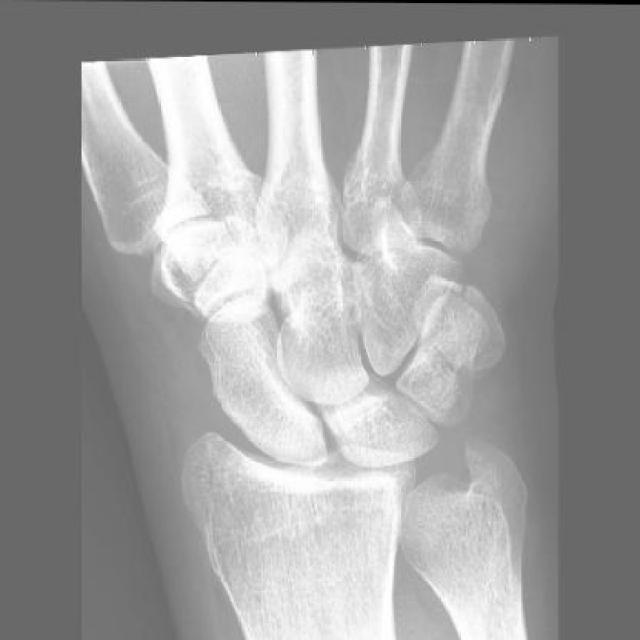Fracture: (417, 270, 508, 378)
